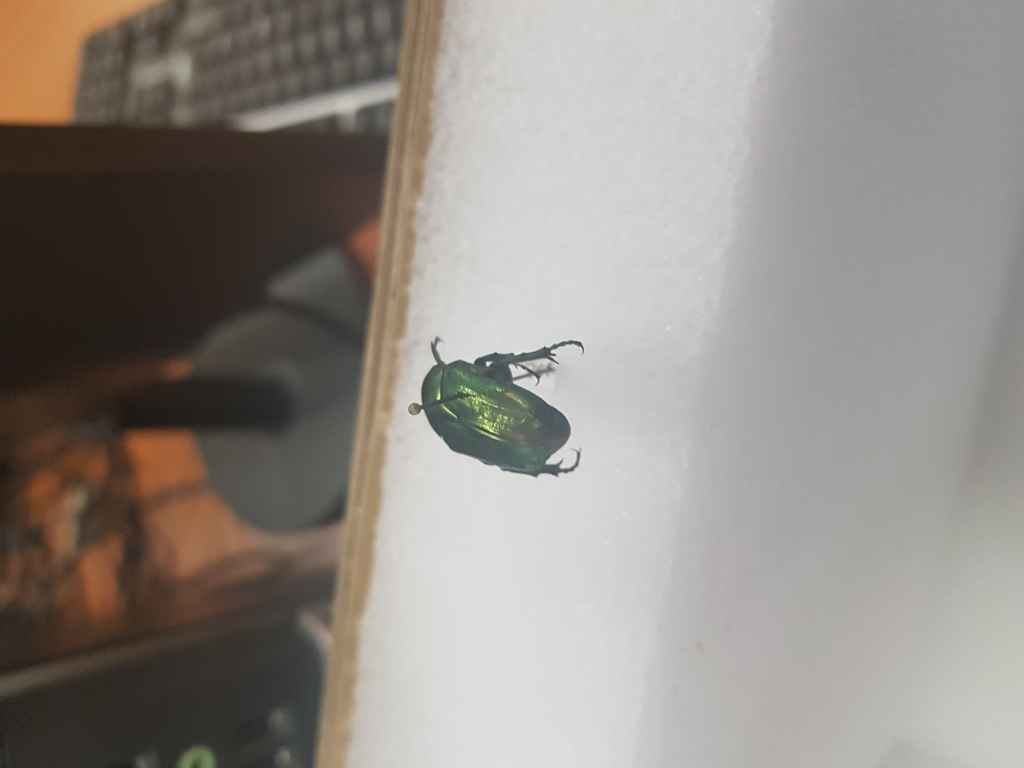Cetonia_aurata: (418, 334, 600, 480)
